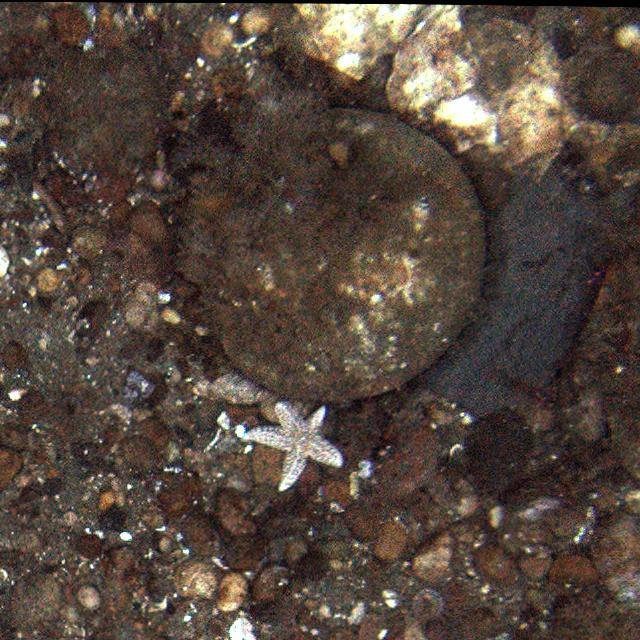scallop: (189, 78, 490, 398)
